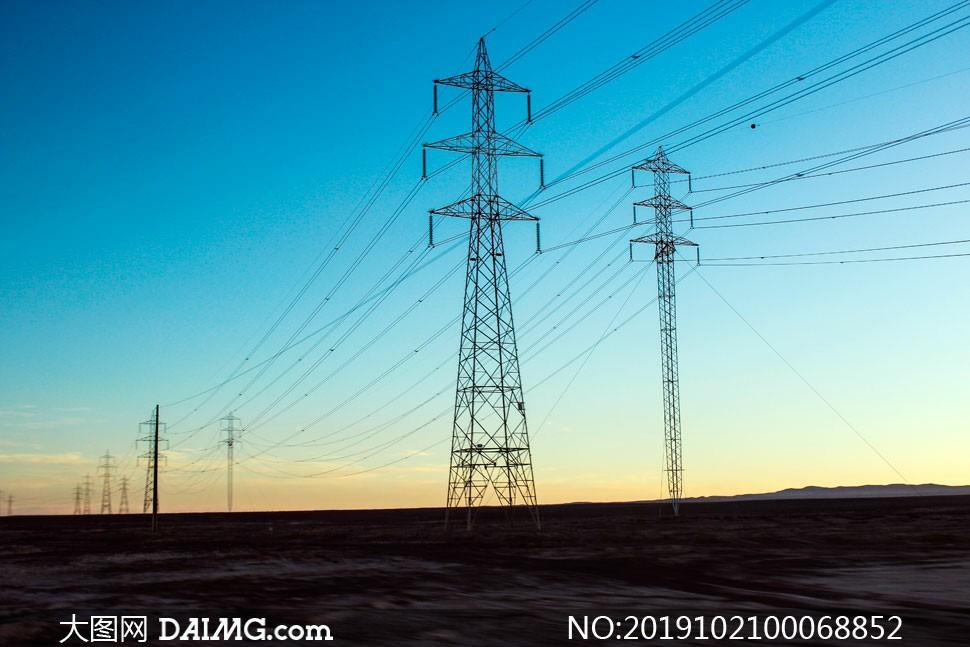power_tower: (424, 34, 550, 507), (621, 144, 699, 495), (138, 408, 171, 513), (217, 404, 246, 515), (88, 442, 123, 518), (116, 467, 138, 515)
